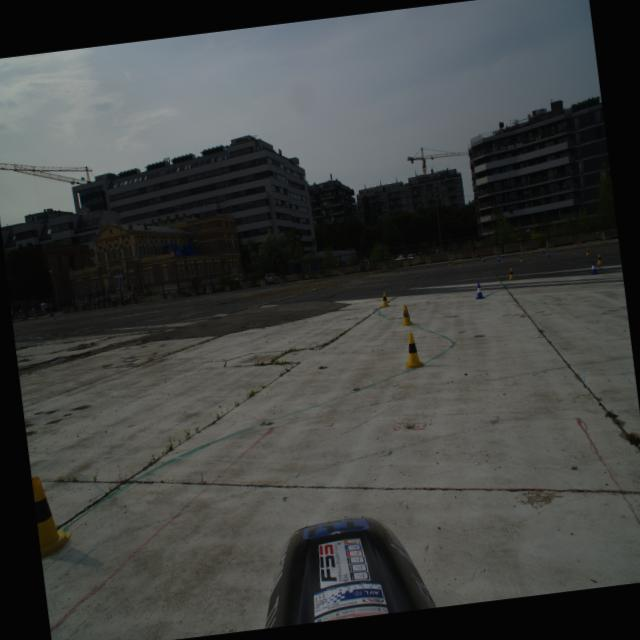blue_cone: (472, 282, 484, 300), (588, 260, 598, 274), (496, 256, 501, 262), (545, 251, 550, 257), (500, 252, 504, 258), (540, 247, 544, 252), (481, 256, 485, 260)
orange_cone: (578, 240, 581, 247), (574, 242, 576, 248)
yellow_cone: (31, 472, 73, 557), (402, 331, 424, 369), (399, 304, 412, 326), (380, 291, 390, 307), (507, 267, 515, 280), (595, 252, 603, 264), (584, 247, 590, 255), (519, 254, 524, 262), (458, 260, 462, 266), (528, 248, 532, 253), (448, 260, 451, 266), (481, 255, 484, 260)
